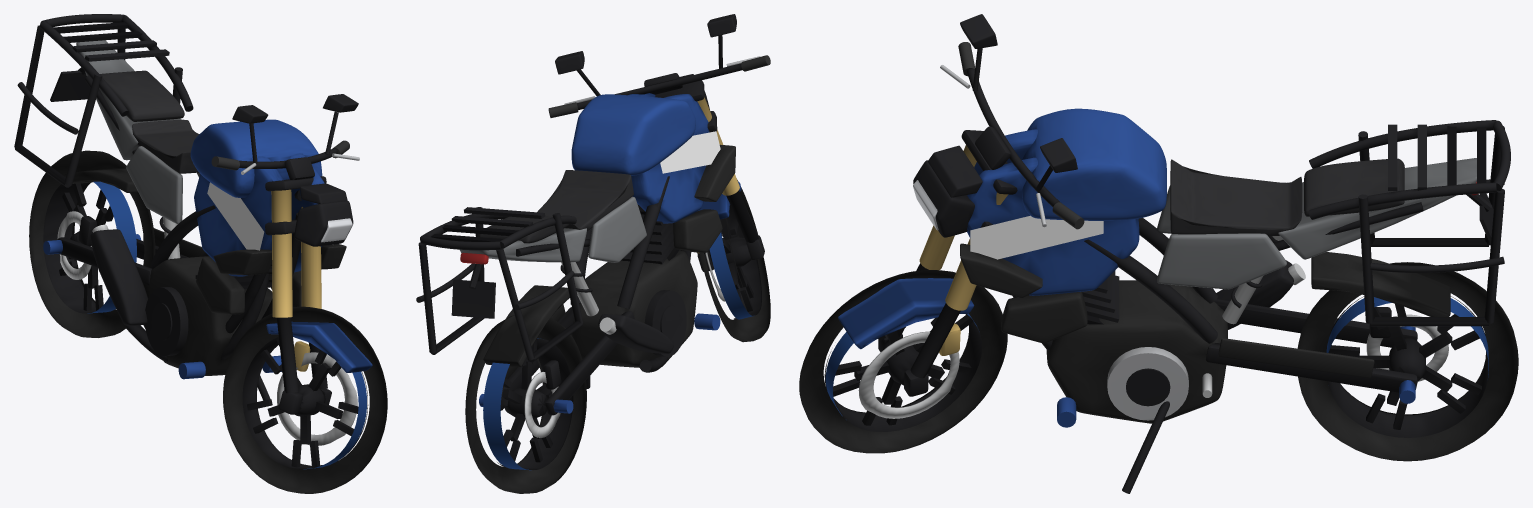
The model's file is hornet.glb.
3 views of the same model, side by side, from view 1: azimuth 30°, elevation 25°; view 2: azimuth 150°, elevation 25°; view 3: azimuth 270°, elevation 25° (orthographic). The views are drawn at different scales.
Visible parts, largest first — view 1: rubber, black, blue, matte_black, seat, grey, gold, decal_R, lens; view 2: black, rubber, blue, matte_black, seat, grey, decal_R, steel, gold; view 3: rubber, black, blue, matte_black, seat, grey, alu, decal_L, gold, steel.
Part boxes in pixels (box(x1,y1,x2,y2)): rubber: box(29, 140, 387, 493); black: box(14, 14, 358, 414); blue: box(43, 119, 372, 379); matte_black: box(65, 168, 346, 375); seat: box(99, 70, 199, 173); grey: box(76, 40, 199, 224); gold: box(271, 189, 321, 317); decal_R: box(207, 182, 264, 250); lens: box(321, 218, 352, 242); black: box(416, 14, 764, 415); rubber: box(465, 55, 770, 493); blue: box(479, 93, 741, 413); matte_black: box(483, 144, 735, 378); seat: box(479, 170, 633, 243); grey: box(460, 196, 646, 262); decal_R: box(660, 131, 720, 173); steel: box(561, 262, 616, 334); gold: box(697, 97, 739, 195); rubber: box(799, 42, 1518, 461); black: box(878, 14, 1510, 493); blue: box(838, 108, 1415, 427); matte_black: box(960, 243, 1450, 423); seat: box(1170, 158, 1404, 235); grey: box(1157, 158, 1476, 289); alu: box(940, 65, 1188, 420); decal_L: box(970, 215, 1103, 259); gold: box(919, 145, 1008, 310); steel: box(1202, 236, 1305, 397).
Bounding box in the file's own units: 0.6757 × 1.28 × 1.94.
